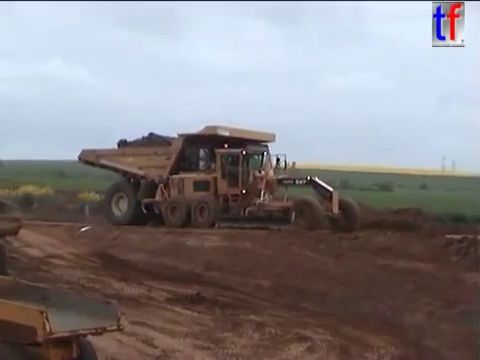motor grader: (139, 143, 361, 234)
truck: (75, 122, 290, 229), (1, 271, 126, 360), (1, 195, 25, 282)
